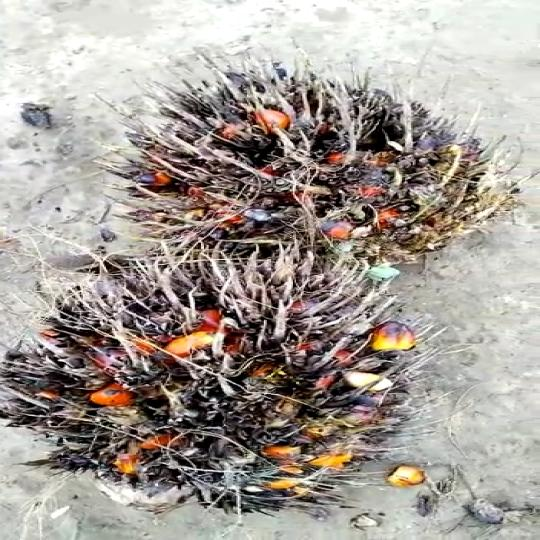terlalu masak: (0, 245, 410, 511), (84, 45, 518, 263)
